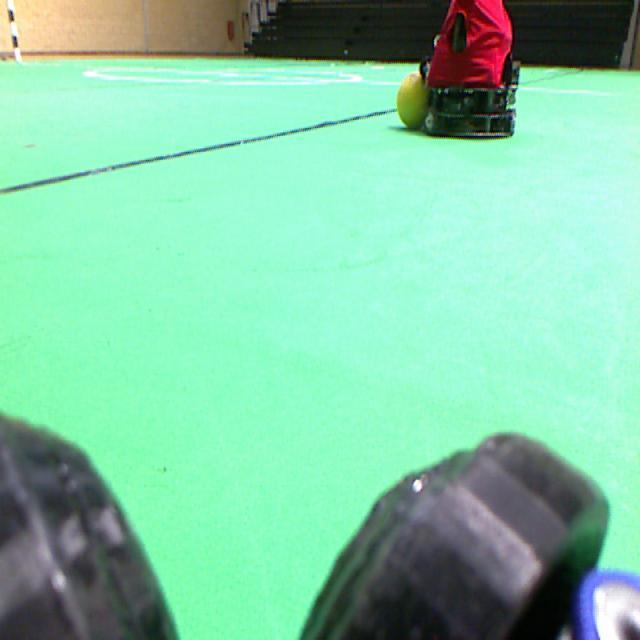ball: (397, 72, 427, 128)
